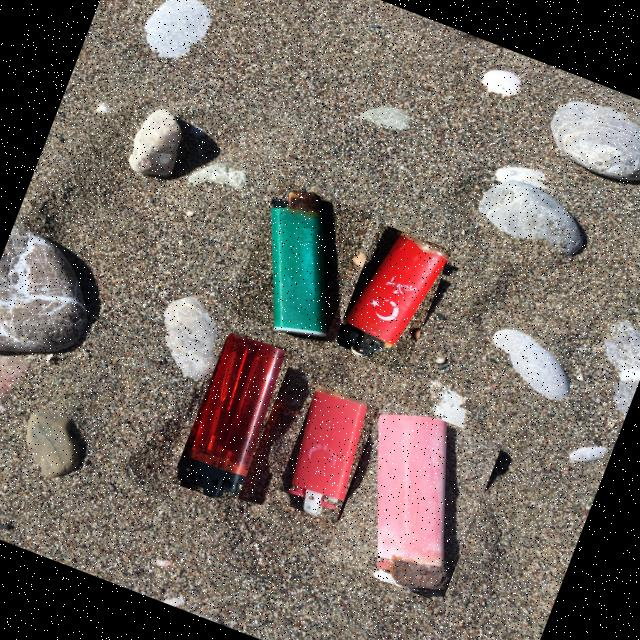Unlabeled litter: (187, 334, 286, 498), (336, 232, 449, 358), (379, 417, 449, 593), (289, 389, 368, 516), (271, 191, 326, 337)
